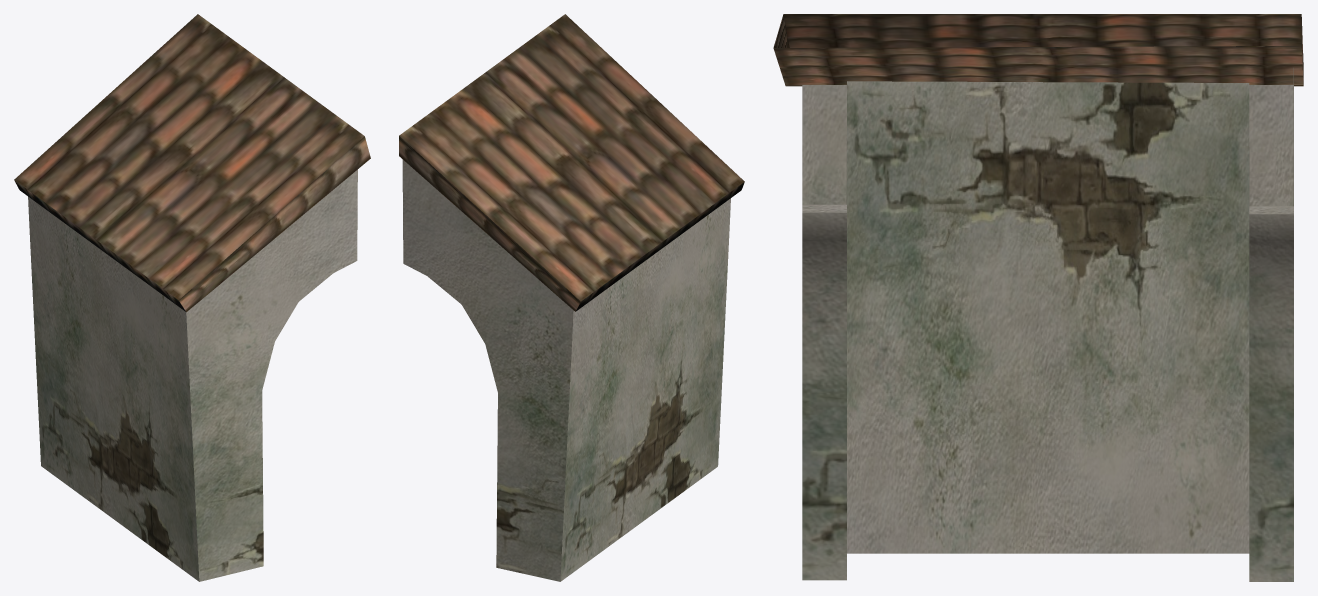
Rendered from spanish_npc_attach_halfarchR.fbx.
The picture shows the model from 3 angles, left to right: view 1: azimuth 30°, elevation 25°; view 2: azimuth 150°, elevation 25°; view 3: azimuth 270°, elevation 25°; orthographic projection. The views are drawn at different scales.
Parts seen in each view (by area): view 1: wall, roof_1; view 2: wall, roof_1; view 3: wall, ceiling, roof_1.
Boxes of the visible parts, x1=… form: wall: x1=28, y1=169, x2=357, y2=581; roof_1: x1=14, y1=14, x2=370, y2=312; wall: x1=402, y1=159, x2=730, y2=581; roof_1: x1=399, y1=14, x2=744, y2=311; wall: x1=802, y1=68, x2=1293, y2=581; ceiling: x1=773, y1=46, x2=1303, y2=86; roof_1: x1=773, y1=14, x2=1303, y2=84.
Size of the model in its own units: 977 by 2070 by 1554.
1 material, 1 textured.
